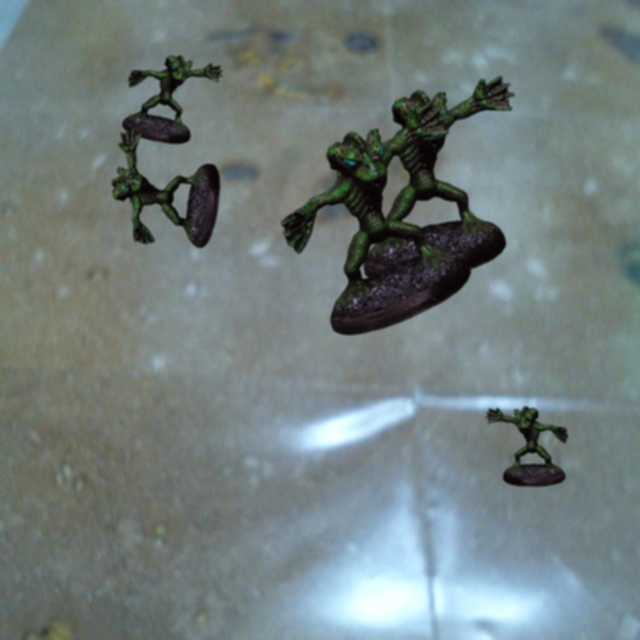pieza_juego: (281, 100, 470, 334), (336, 76, 514, 282), (111, 129, 219, 247), (122, 55, 222, 143), (485, 406, 567, 486)
